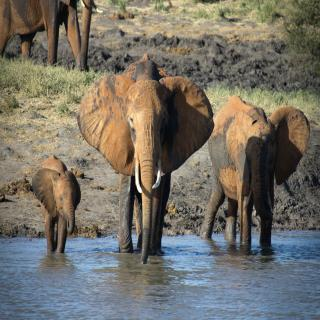Elephant: (80, 51, 216, 268), (205, 81, 313, 256), (32, 150, 86, 258)
